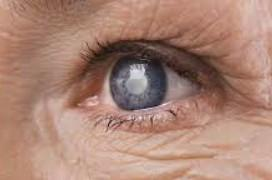eye: (109, 54, 167, 109)
